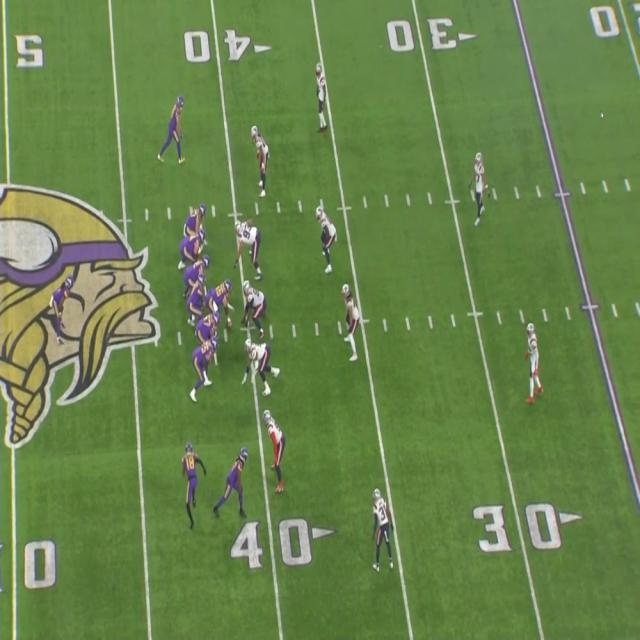center: (211, 281, 234, 324)
db: (373, 486, 392, 570), (266, 415, 286, 490), (252, 125, 268, 196), (526, 322, 540, 398), (473, 149, 485, 223), (317, 61, 329, 127)
lb: (344, 283, 364, 361), (316, 207, 336, 276), (54, 274, 70, 328)
qb: (187, 268, 206, 328)
skill: (223, 446, 251, 515), (164, 91, 187, 163), (182, 447, 200, 523)
